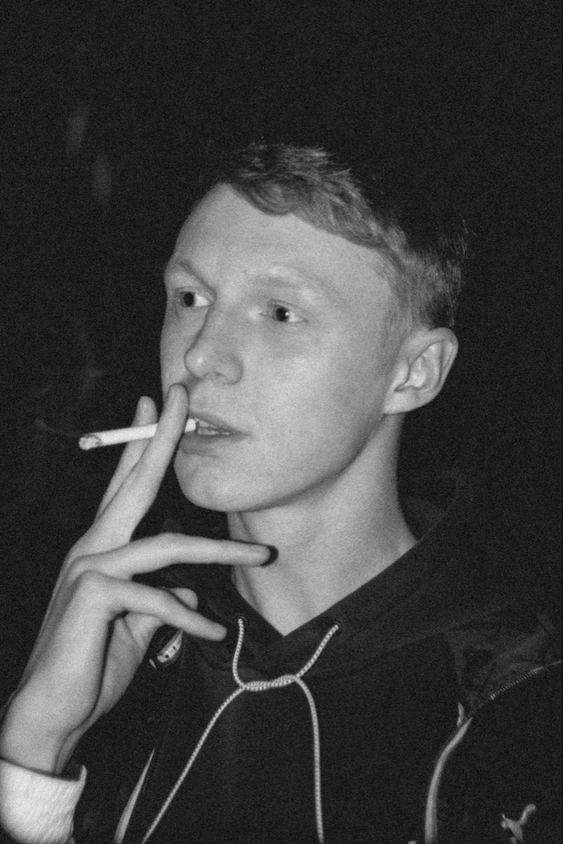cigarette: (79, 417, 196, 450)
